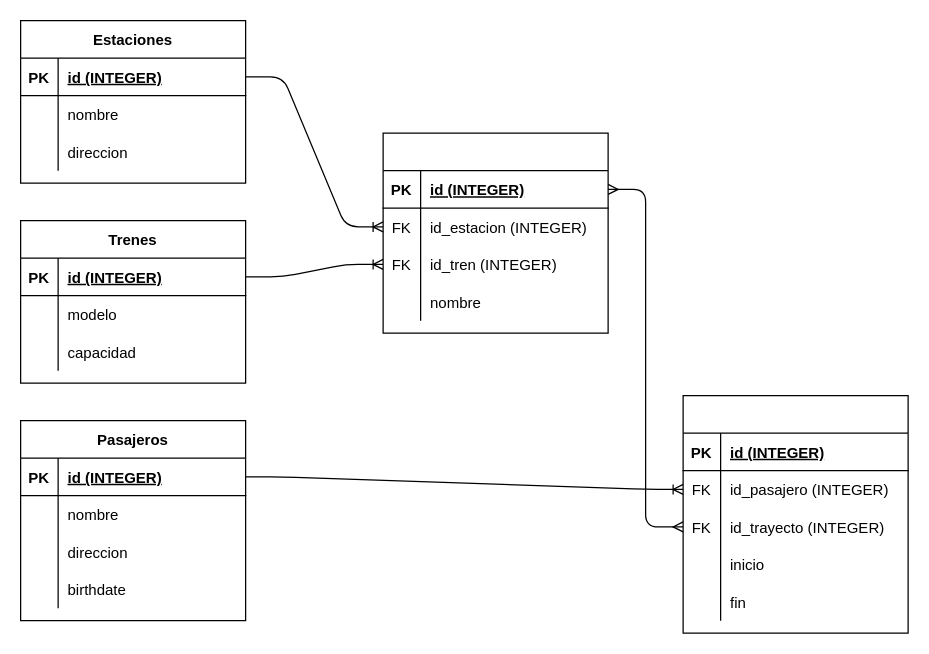
This 929x654 diagram has some shape labels left out. Each missing label, with the box of its shape:
Trayectos: (382, 132, 608, 333)
Viajes: (682, 394, 908, 633)
